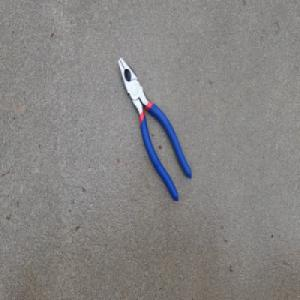Pliers: (117, 56, 192, 201)
